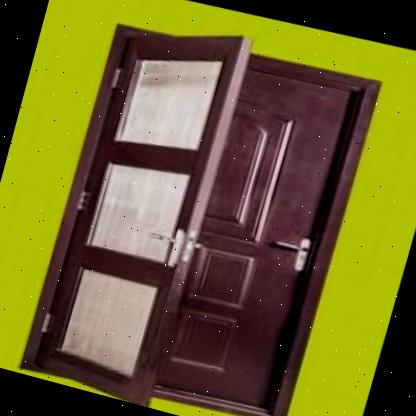door: (15, 4, 384, 416)
